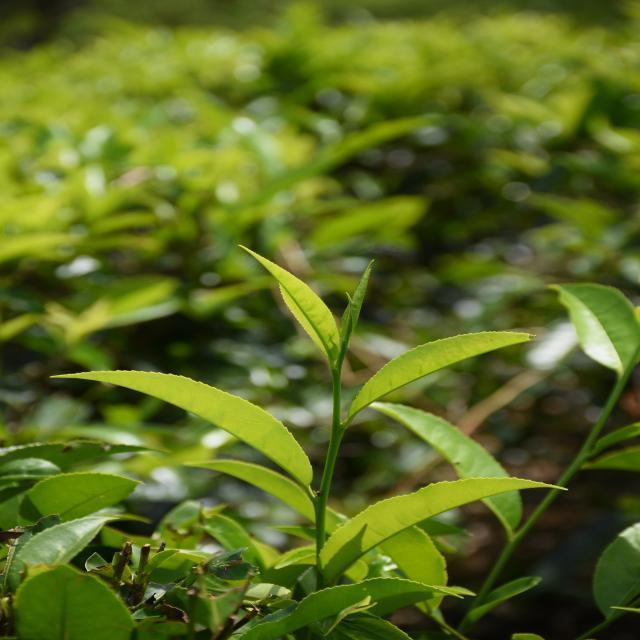Stem: (333, 369, 340, 382)
